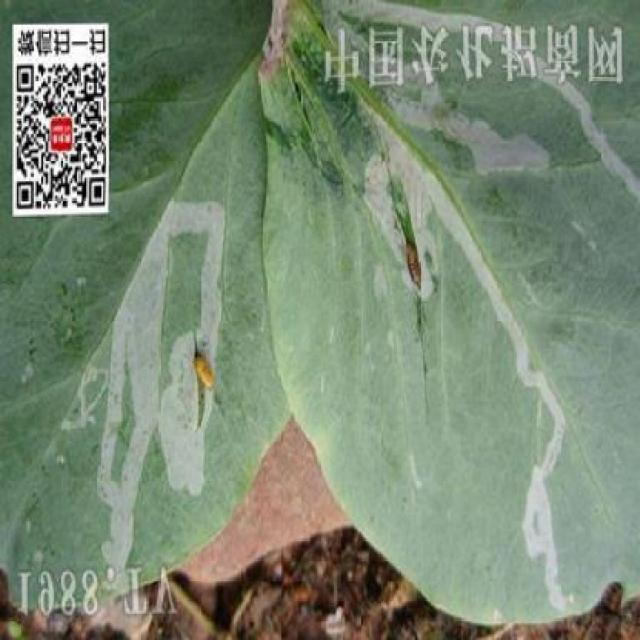whorl-maggot: (398, 232, 432, 292), (188, 344, 223, 402)
